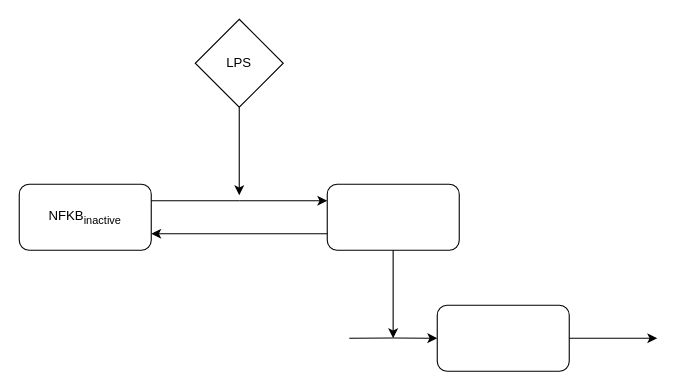
Image size: 685x391. Some labels were removed from this diagram. Here are the shapes that lost their labels. From the top down, the box of each, then its label:
(326, 183, 459, 250): NFKB active
(436, 304, 569, 371): TNF
